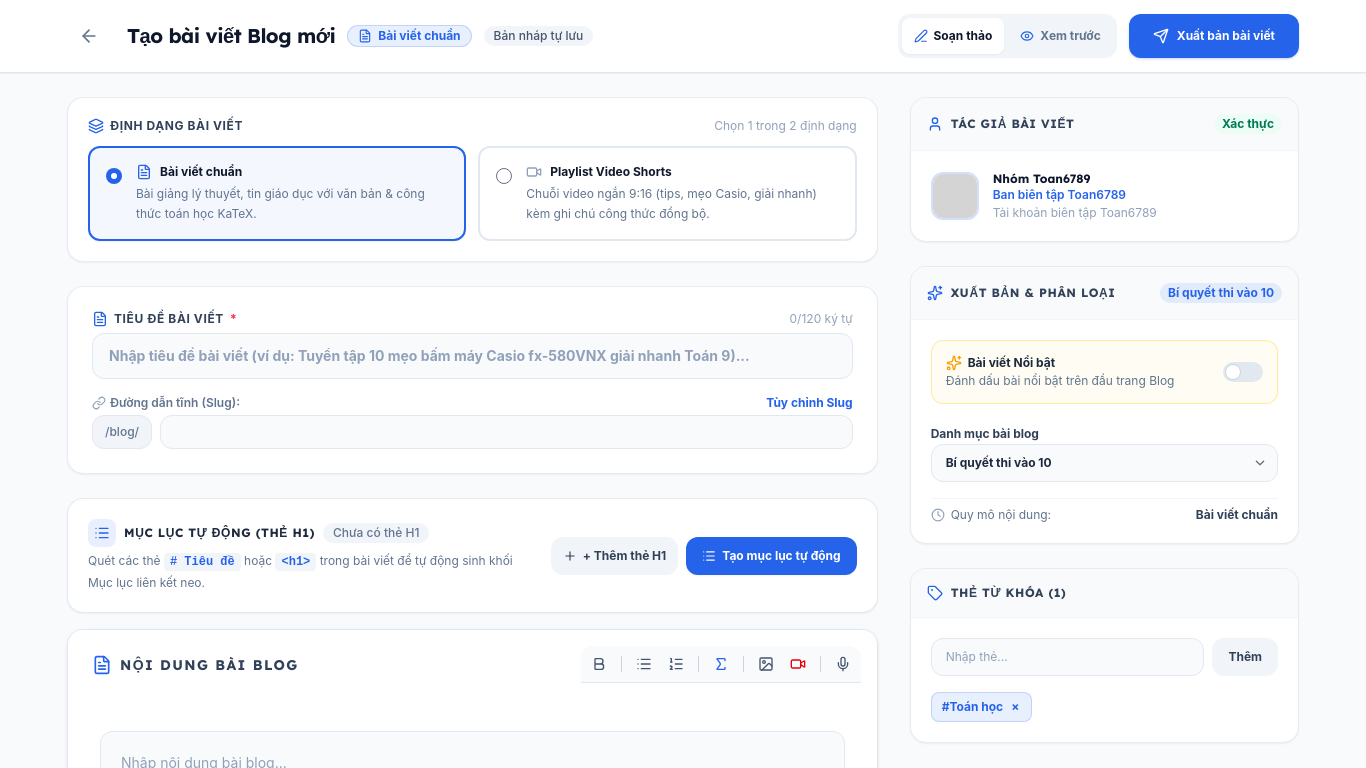
Scenario: CreateBlogPostPage shorts playlist mode › allows switching post type to Playlist Video Shorts and adding short items
Click the radio button labelled "Playlist Video Shorts": (504, 176) [496,168,512,184]
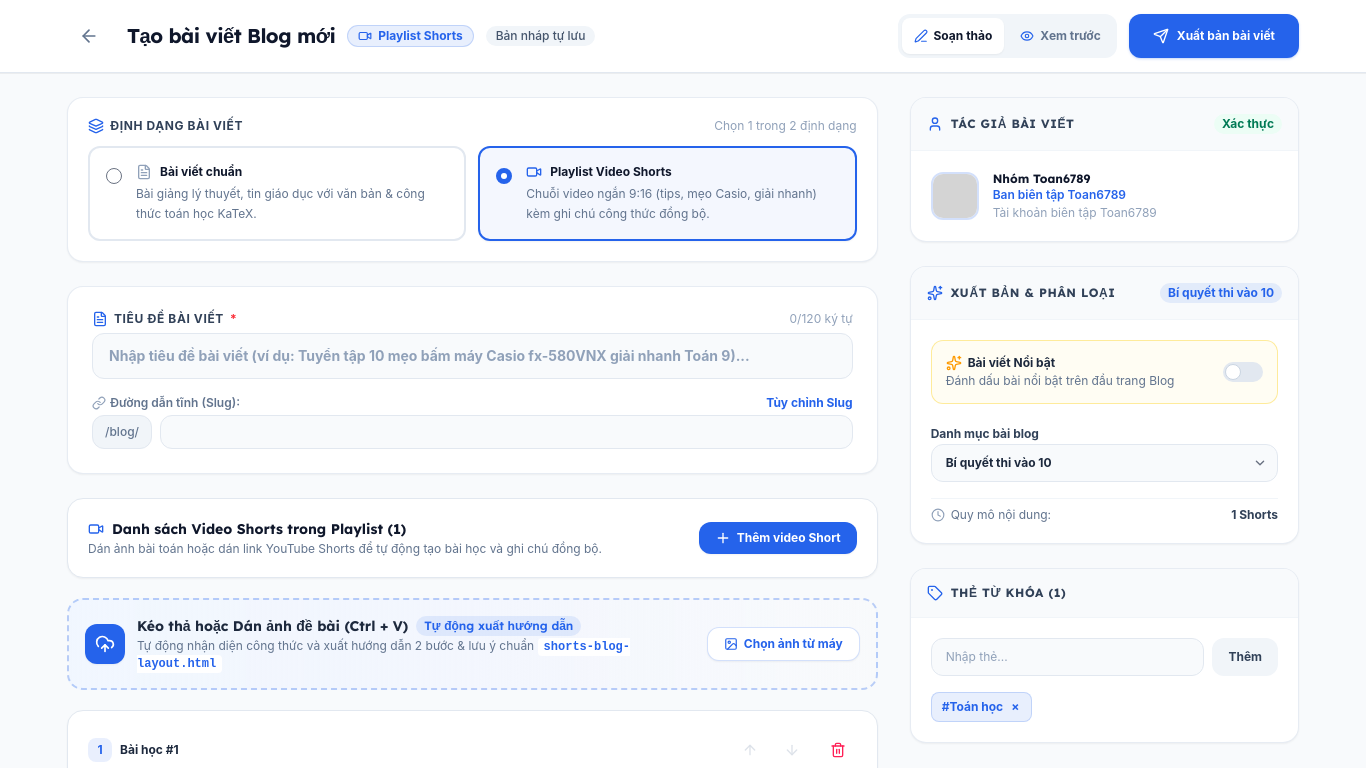
Now the button "Thêm video Short" is shown
Click the button "Thêm video Short": (778, 538) [699,522,857,554]
(page scrolled)
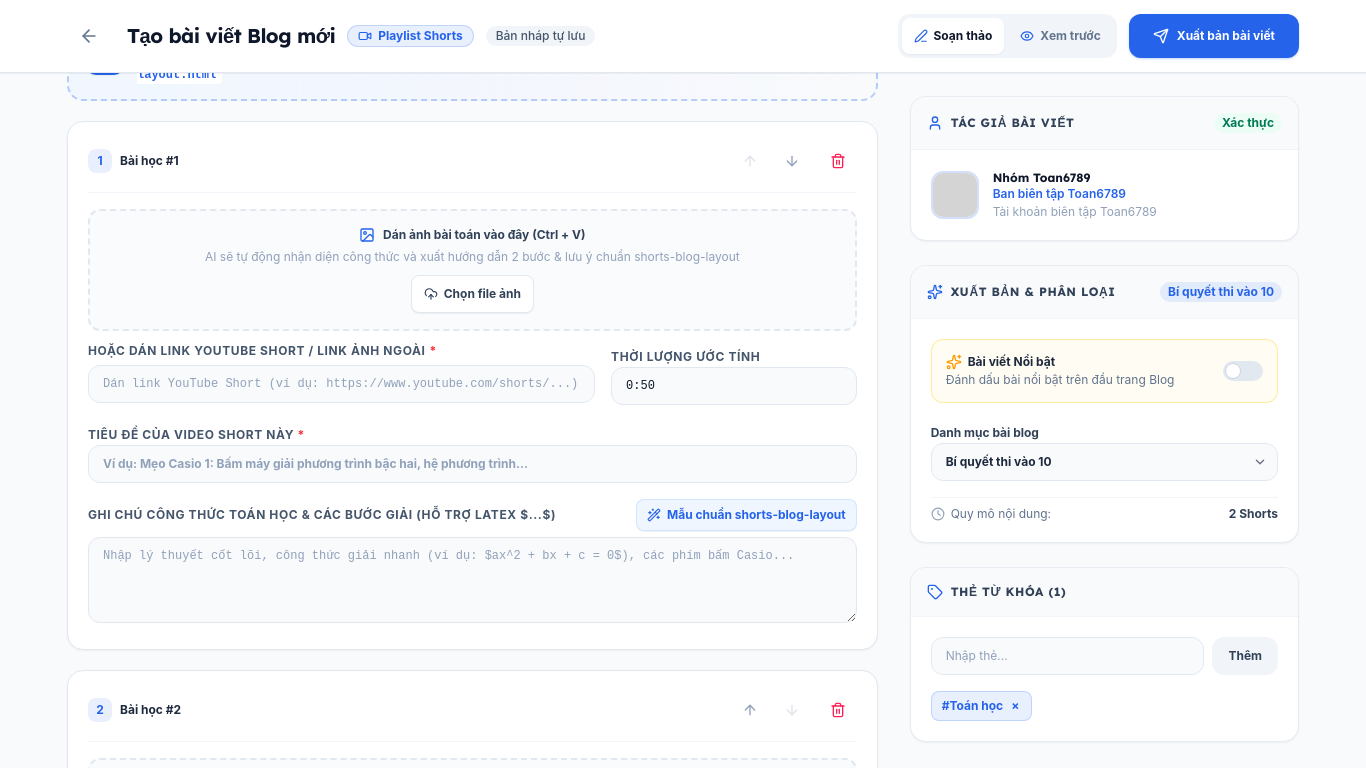
Now the number of fields with placeholder "Dán link YouTube Short" is 2
// Fill data for first short
Replace the text in the field with placeholder "Dán link YouTube Short" with "https://www.youtube.com/shorts/dQw4w9WgXcQ": (342, 384) [88,365,595,403]
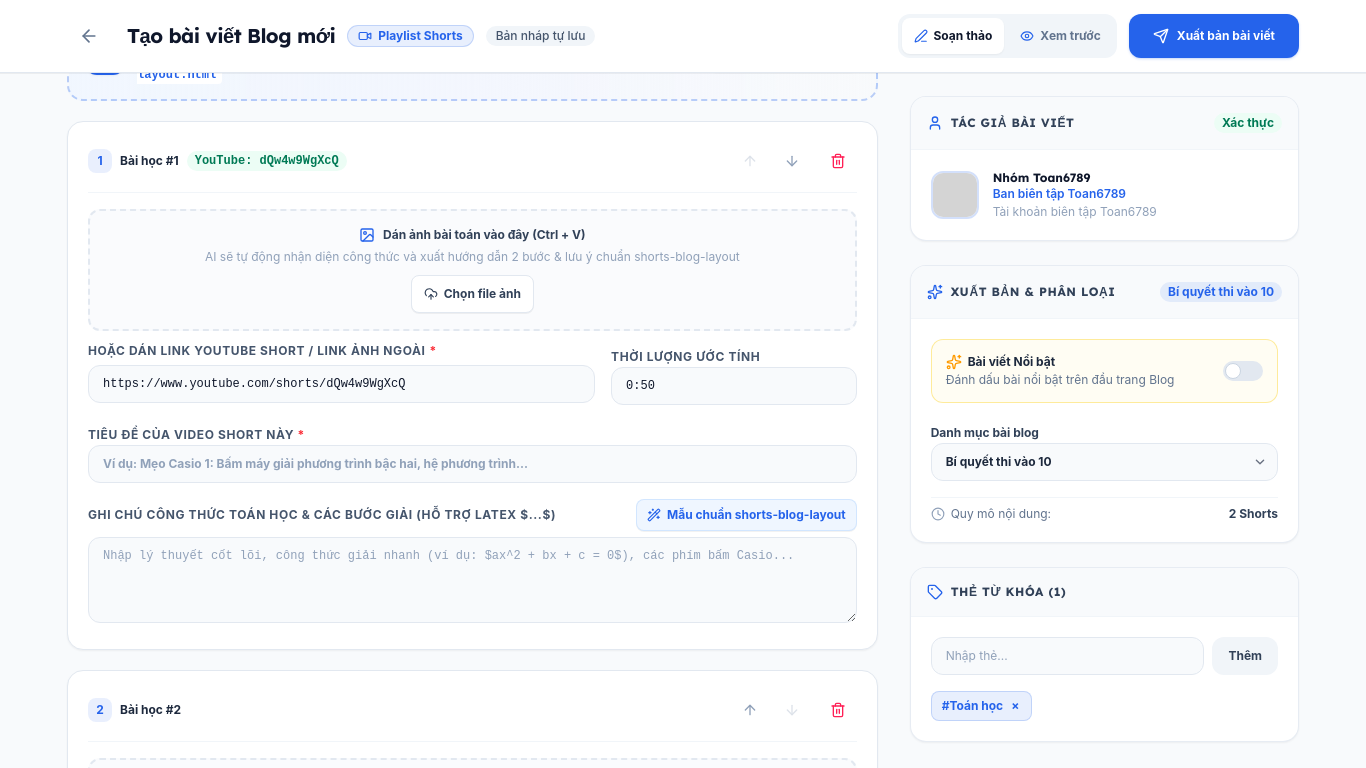
Replace the text in the field with placeholder "Mẹo Casio 1" with "Tip 1: Bấm máy cực trị": (472, 464) [88,445,857,483]
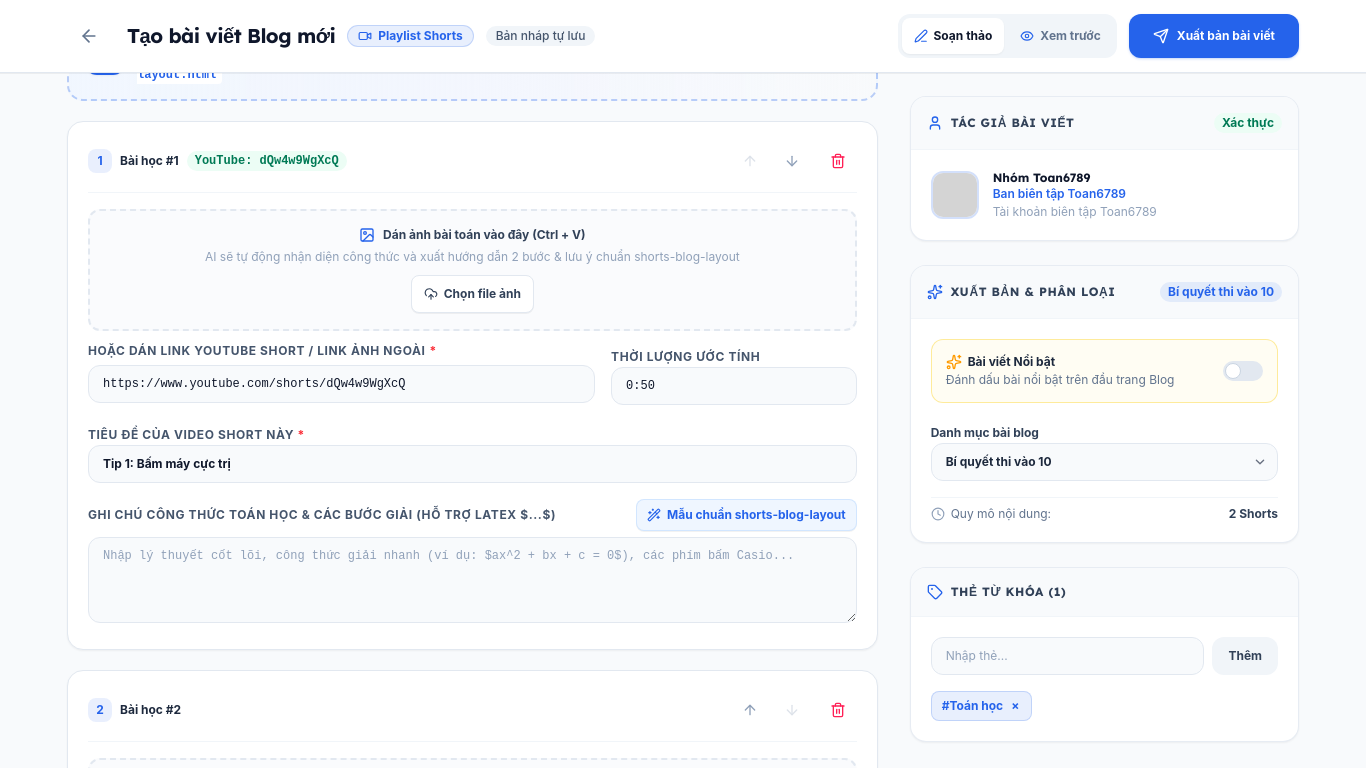
// Switch to preview mode
Click the button "Xem trước": (1061, 36) [1008,18,1113,54]
(page scrolled)
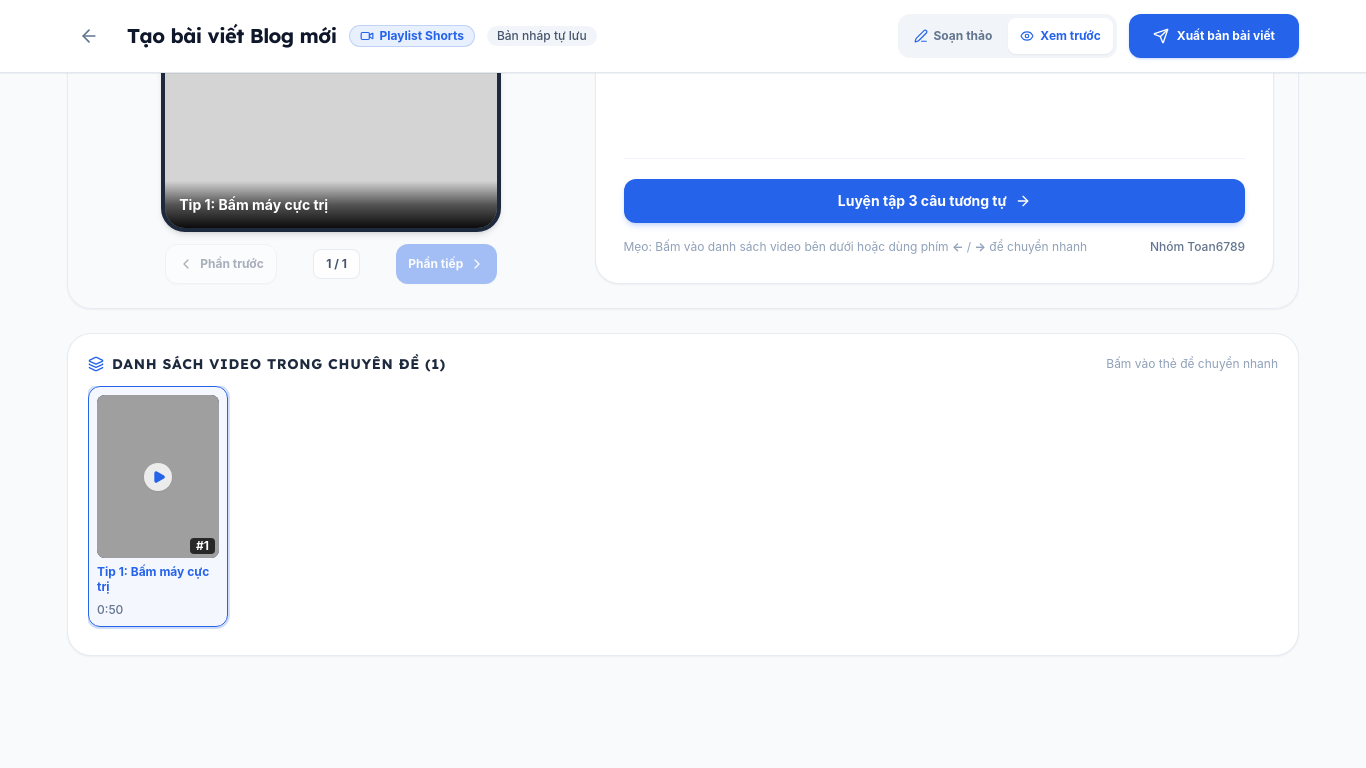
Now the text "Tip 1: Bấm máy cực trị" in the row of "Luyện tập 3 câu tương tự" is shown, box [179,196,328,213]
